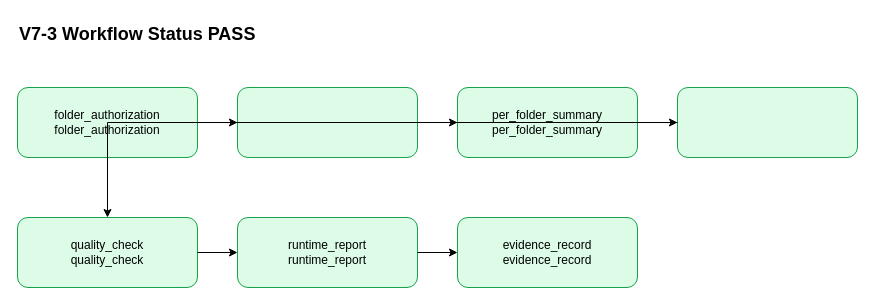
Image size: 875x305. Some labels were removed from this diagram. Each missing label, with the centre of its shape:
markdown_scan markdown_scan: (x=327, y=122)
overview_summary overview_summary: (x=767, y=122)
